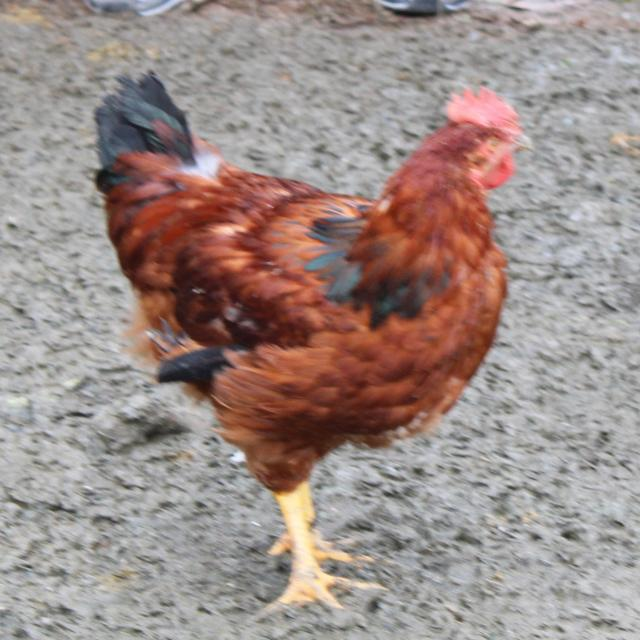cook: (75, 71, 525, 615)
